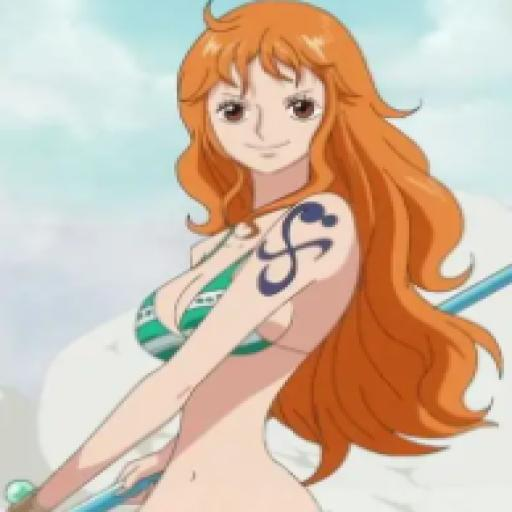Nami: (3, 2, 509, 512)
